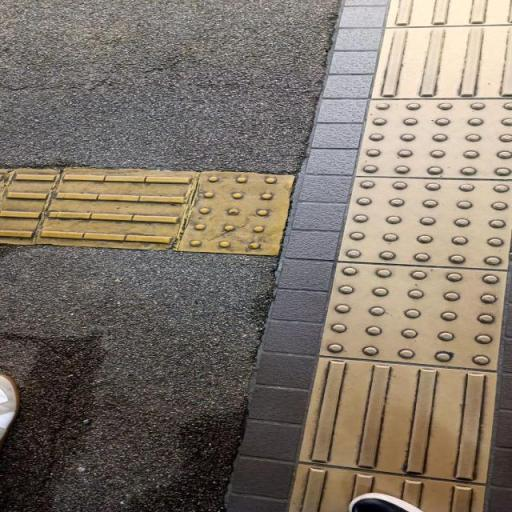dot: (321, 262, 505, 369), (336, 178, 511, 273), (355, 98, 511, 182), (176, 172, 298, 261)
line: (298, 358, 496, 486), (31, 170, 200, 252), (372, 27, 511, 99)
